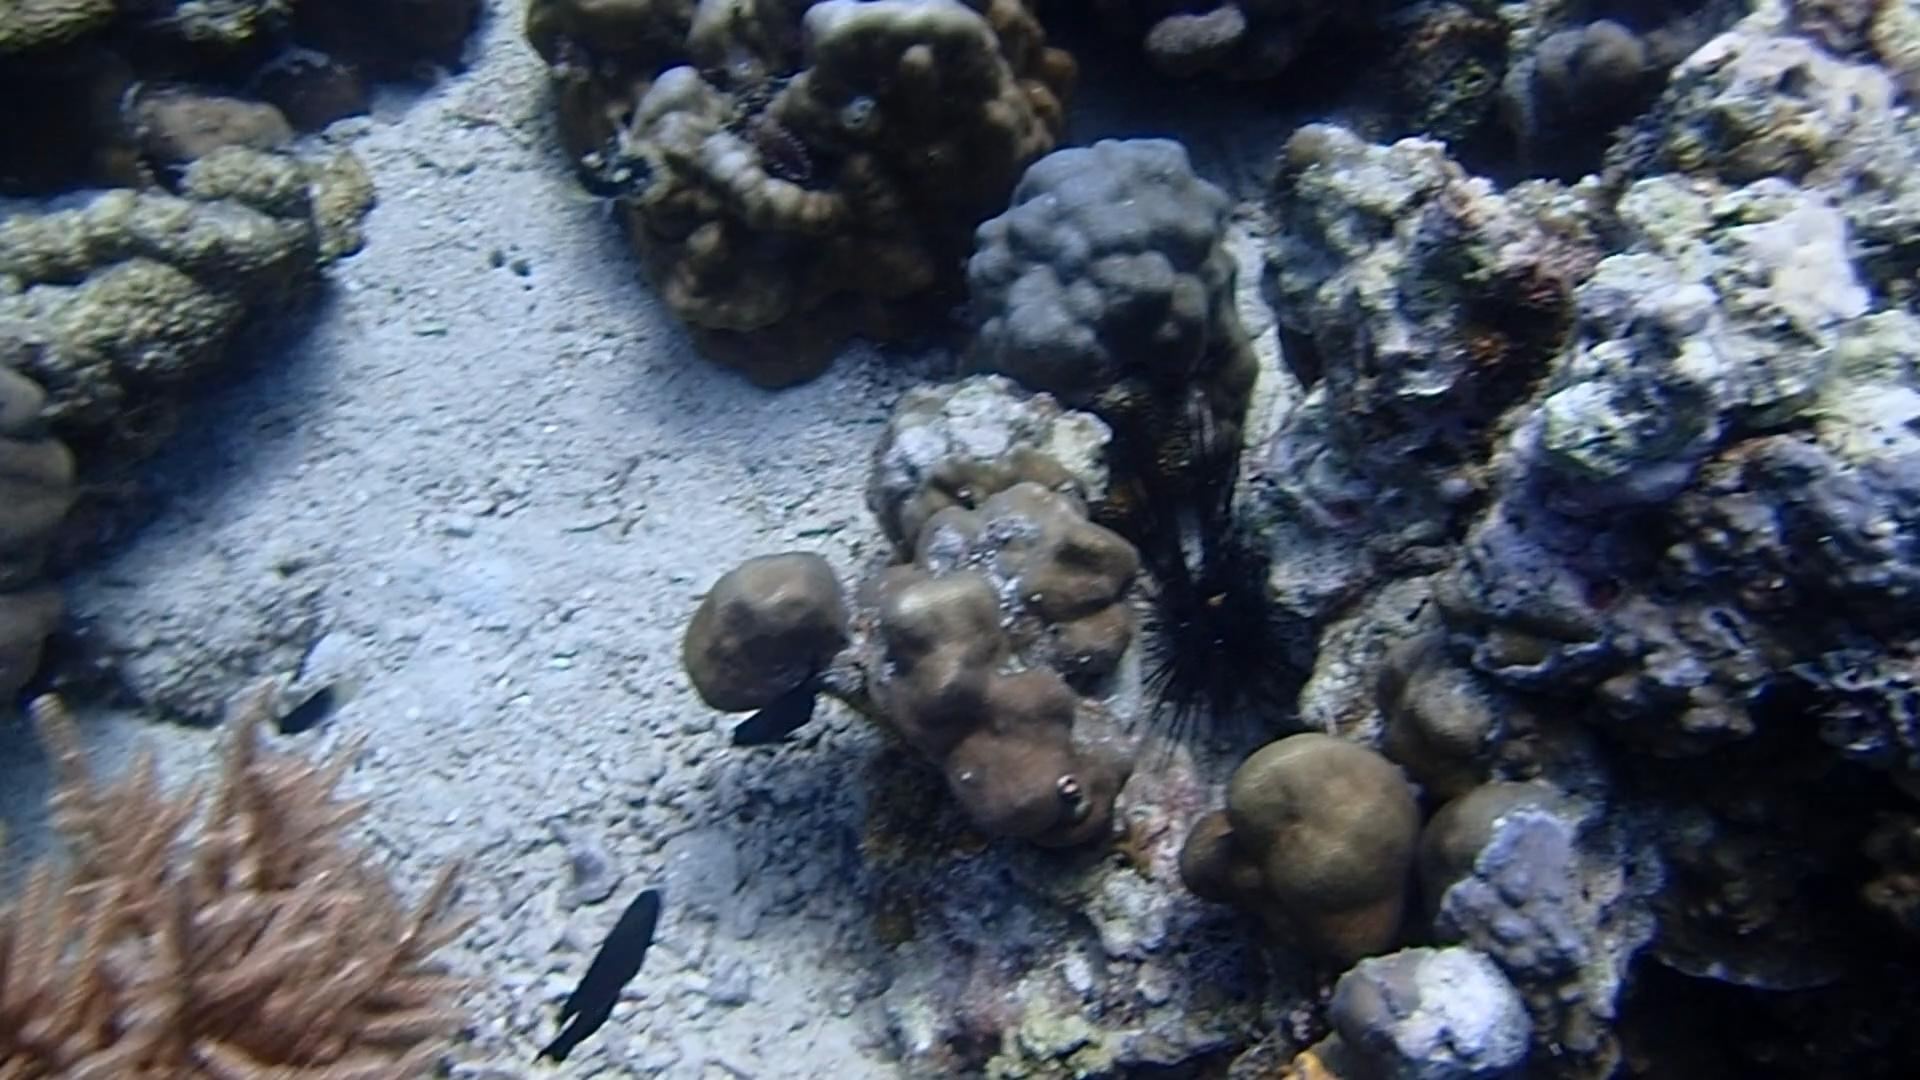Dark Fish: (527, 884, 671, 1064), (702, 645, 847, 767)
Yellow Tail: (276, 667, 364, 740), (547, 157, 628, 215)
